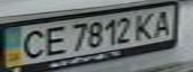1: (103, 17, 121, 46)
2: (115, 14, 136, 44)
7: (66, 20, 90, 52)
8: (87, 18, 106, 50)
A: (148, 7, 175, 37)
C: (15, 27, 51, 61)
E: (36, 24, 69, 56)
K: (130, 10, 160, 40)
